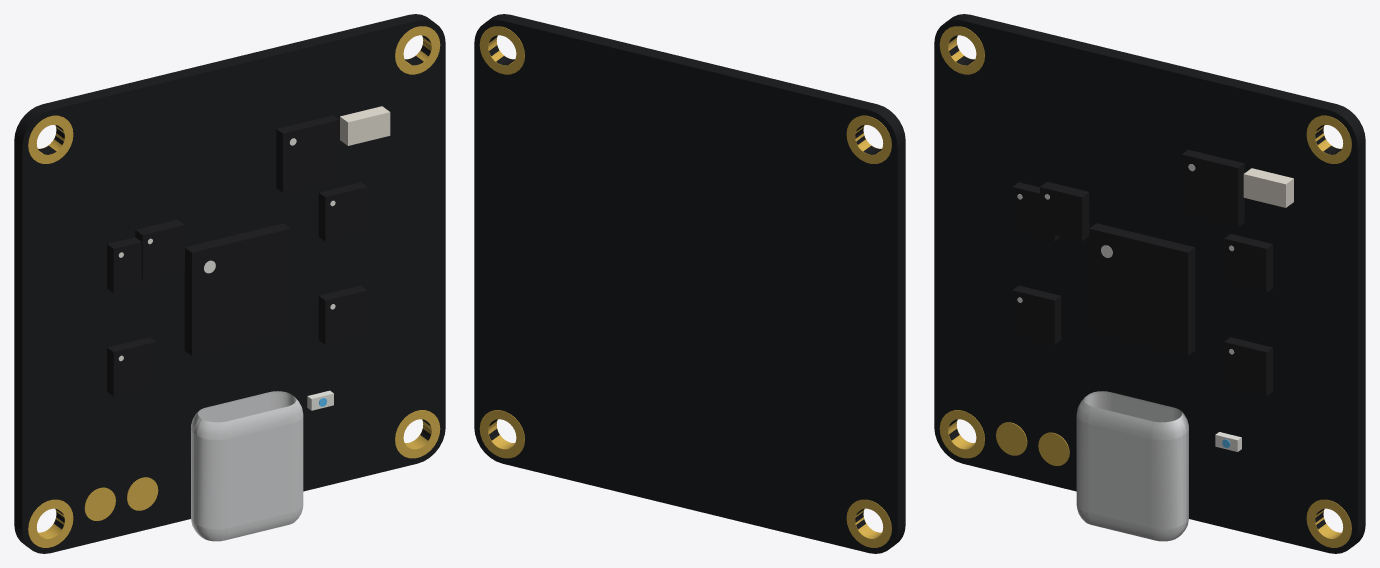
Rendered from betafpv-f4-2-3s-20a-aio.glb.
3 views of the same model, side by side, from view 1: azimuth 30°, elevation 25°; view 2: azimuth 150°, elevation 25°; view 3: azimuth 330°, elevation 25° (orthographic).
Visible parts, largest first — view 1: board, usb, mcu, receiver, esc_fet_4, esc_fet_1, esc_fet_3, gyro, esc_fet_2, rx_antenna, hole_4, hole_3 (+4 smaller); view 2: board, hole_4, hole_3, hole_1, hole_2; view 3: board, usb, mcu, receiver, gyro, esc_fet_3, esc_fet_1, esc_fet_4, rx_antenna, esc_fet_2, hole_3, hole_4 (+4 smaller).
Boxes of the visible parts, x1,y1,x2,y2 form: board: (14,14,445,553); usb: (191,391,303,541); mcu: (184,223,290,355); receiver: (276,115,339,192); esc_fet_4: (318,285,367,344); esc_fet_1: (318,182,367,241); esc_fet_3: (107,337,155,396); gyro: (135,219,184,279); esc_fet_2: (107,237,155,292); rx_antenna: (340,106,390,145); hole_4: (395,410,440,458); hole_3: (28,499,73,547); board: (474,14,905,553); hole_4: (479,410,524,458); hole_3: (846,499,891,547); hole_1: (479,26,524,74); hole_2: (846,115,891,163); board: (934,14,1365,553); usb: (1076,391,1188,541); mcu: (1089,223,1195,355); receiver: (1181,149,1244,226); gyro: (1040,181,1089,241); esc_fet_3: (1012,285,1061,344); esc_fet_1: (1224,234,1272,292); esc_fet_4: (1224,337,1272,396); rx_antenna: (1243,168,1293,207); esc_fet_2: (1012,182,1060,241); hole_3: (939,410,984,458); hole_4: (1306,499,1351,547).
Size of the model in its own units: 30 by 30.54 by 4.23.
